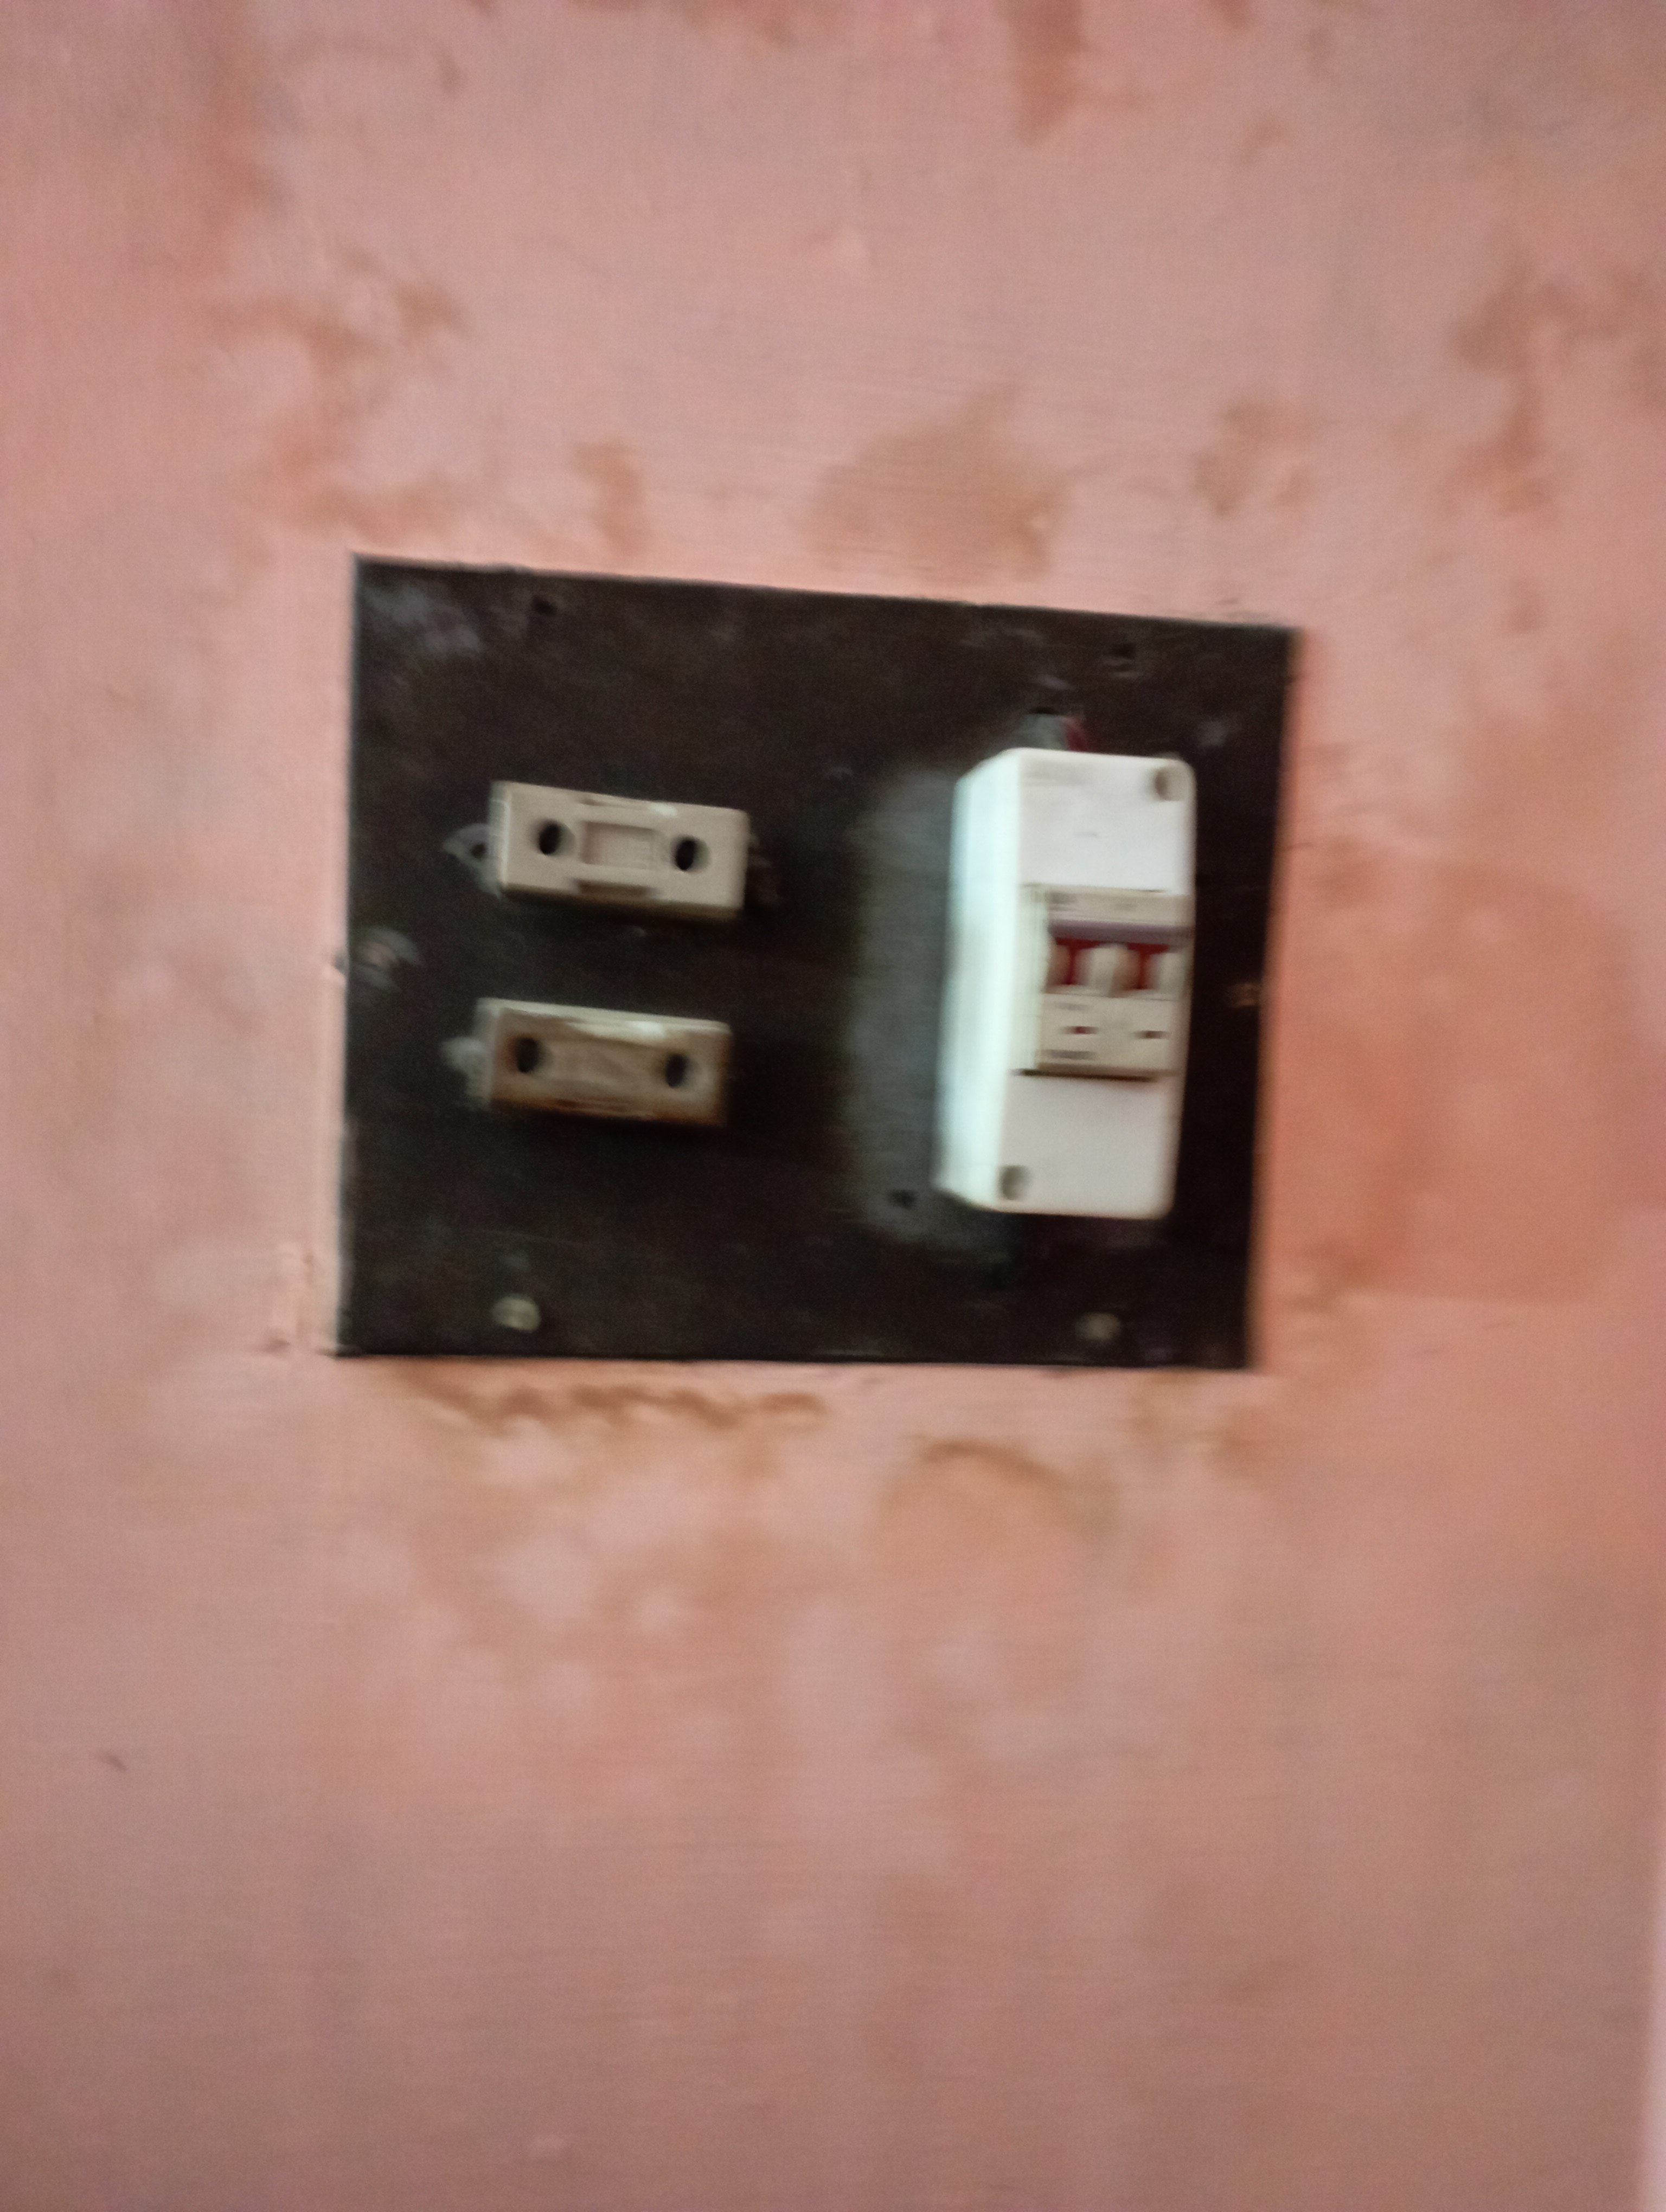ciruit_breaker: (926, 754, 1213, 1247)
fuse: (445, 762, 763, 930), (462, 988, 749, 1163)
